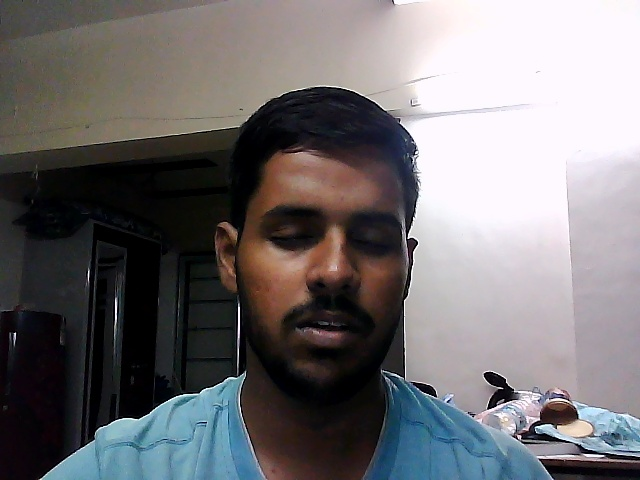drowsy: (195, 80, 460, 403)
